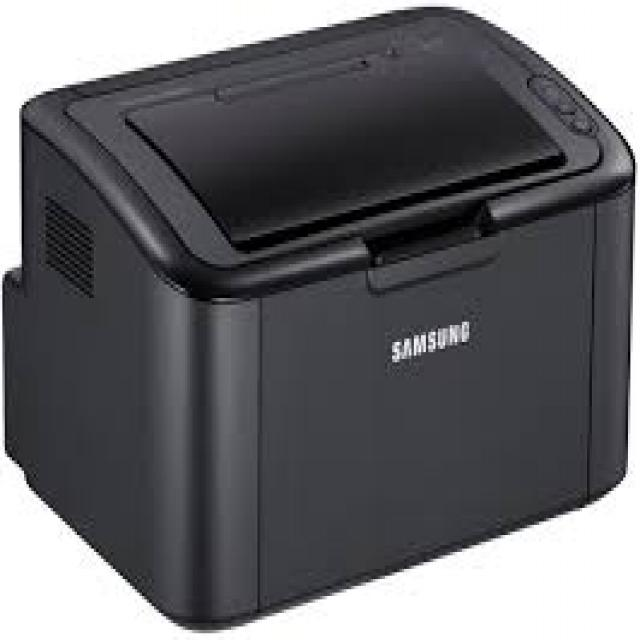printer: (3, 7, 638, 632)
